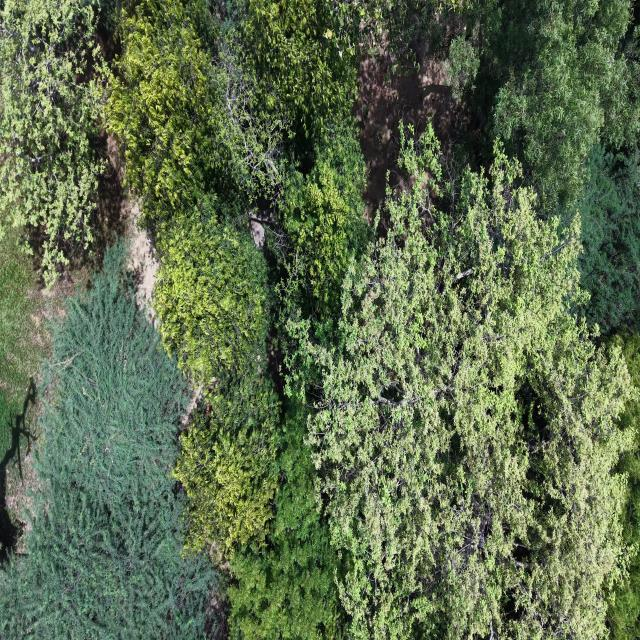DRY_AREA: (0, 264, 91, 553), (354, 47, 468, 221), (354, 51, 467, 221)
VEGETATION_TREE: (0, 0, 639, 639), (301, 128, 632, 638), (108, 3, 366, 637), (108, 3, 365, 552), (108, 2, 282, 552), (0, 244, 222, 639), (329, 0, 639, 210), (107, 0, 355, 220), (154, 198, 280, 552), (450, 0, 639, 207), (107, 0, 283, 221), (480, 0, 639, 205), (0, 0, 107, 284), (229, 407, 344, 639), (107, 0, 224, 219), (154, 199, 269, 384), (174, 355, 280, 554), (277, 120, 366, 317), (240, 0, 356, 137), (0, 227, 45, 562), (577, 146, 639, 333), (326, 0, 471, 72), (0, 228, 40, 459), (608, 398, 639, 639), (445, 34, 479, 100), (0, 390, 13, 457)
